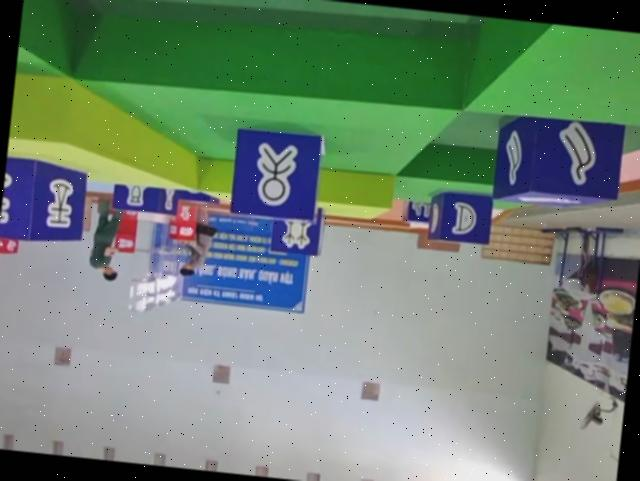R2 Real Blue: (491, 110, 625, 214), (230, 125, 325, 223), (0, 154, 87, 247), (429, 187, 495, 246), (271, 202, 326, 257), (112, 181, 180, 216)
